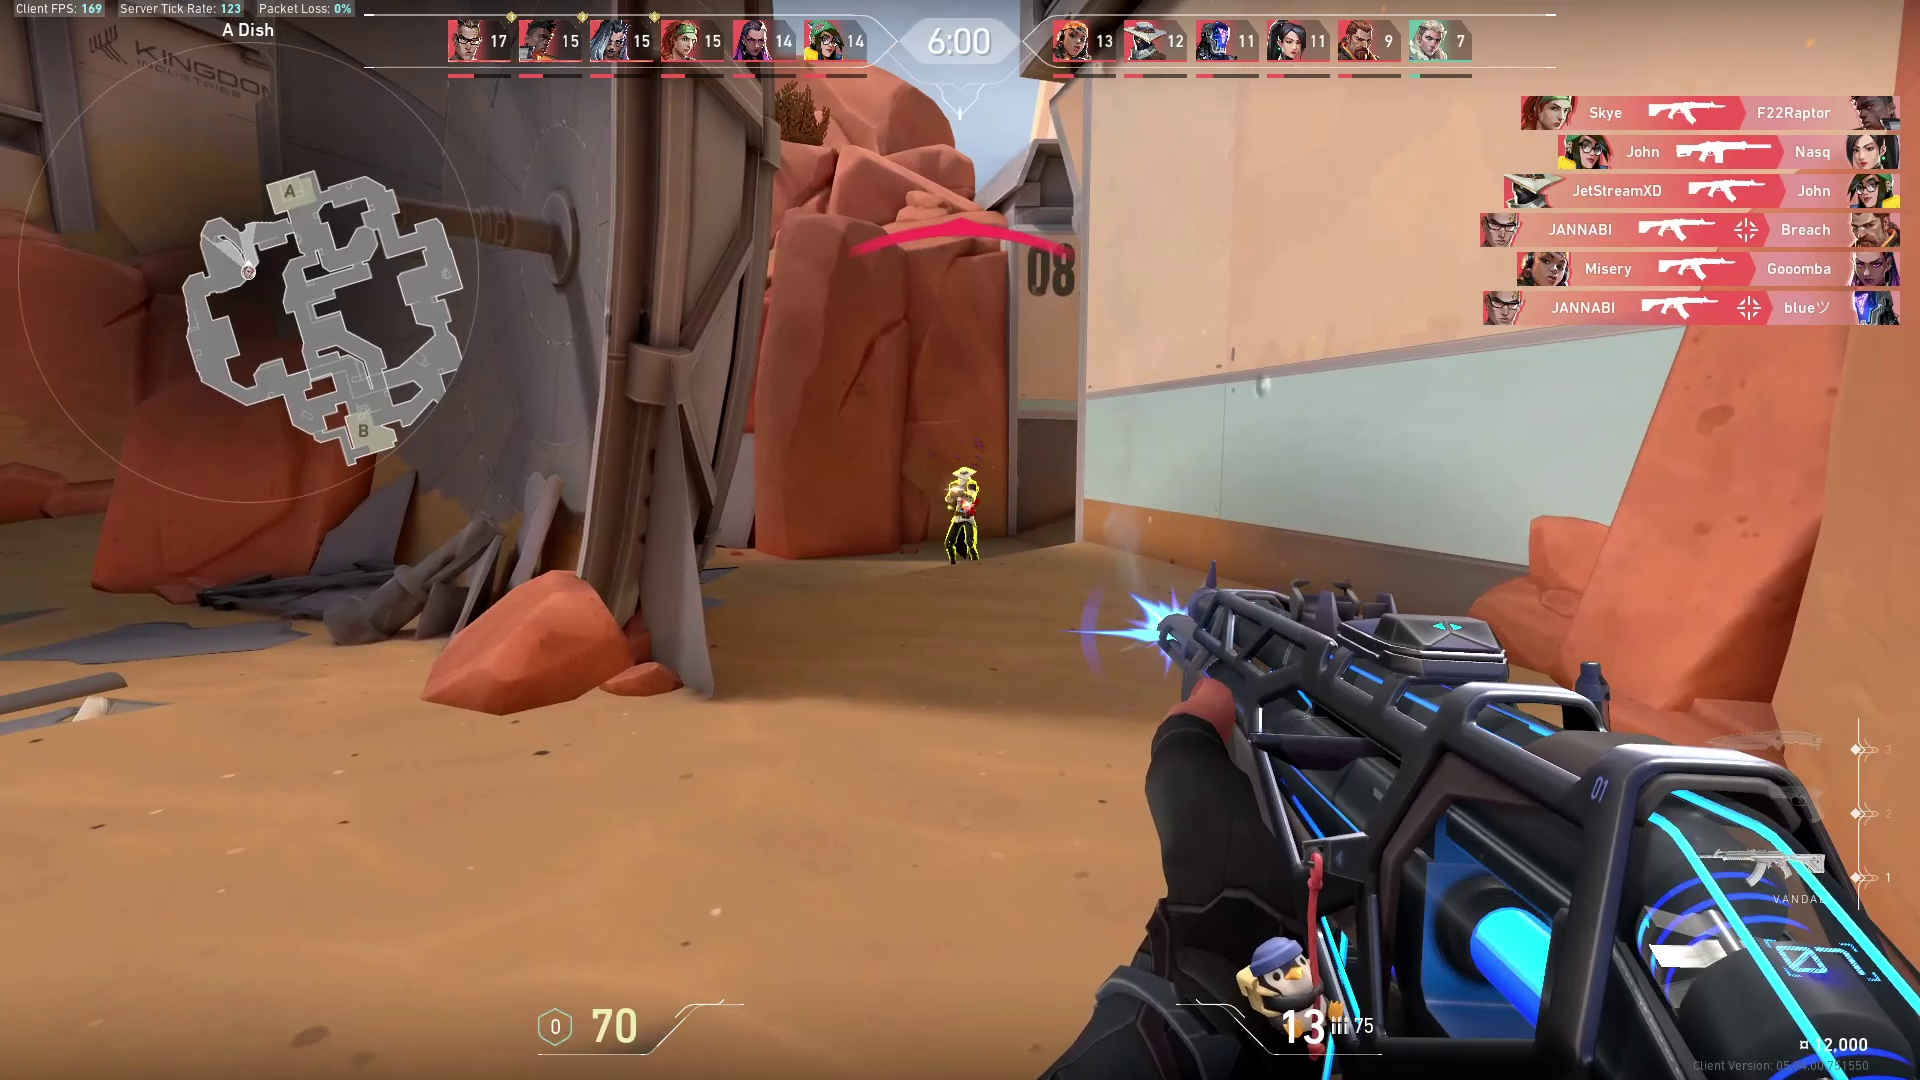enemy_body: (940, 482, 989, 569)
enemy_head: (952, 462, 979, 487)
